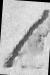G4: (2, 0, 48, 74)
